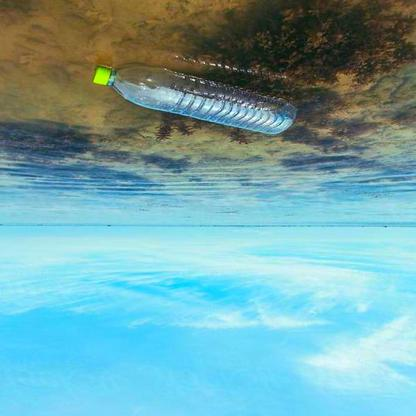plastic bottle: (90, 64, 297, 135)
